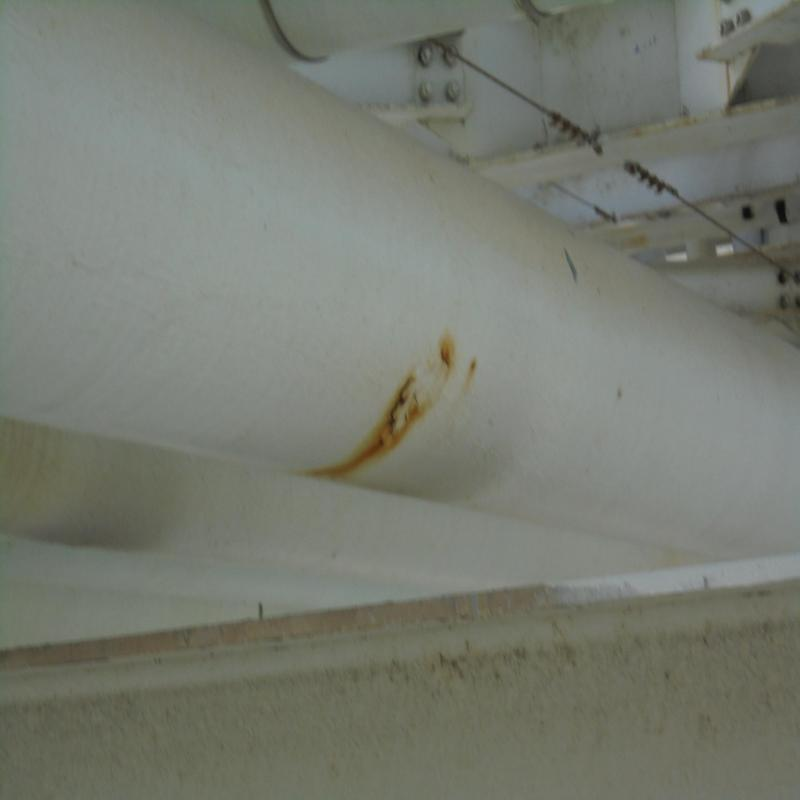corrosion: (383, 380, 421, 446)
